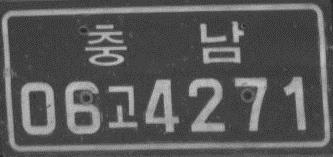0: (20, 79, 56, 135)
1: (282, 75, 310, 133)
2: (187, 77, 227, 134)
4: (140, 77, 182, 134)
6: (63, 79, 102, 134)
7: (231, 75, 269, 133)
고: (106, 82, 141, 131)
충남_D: (84, 17, 245, 69)
